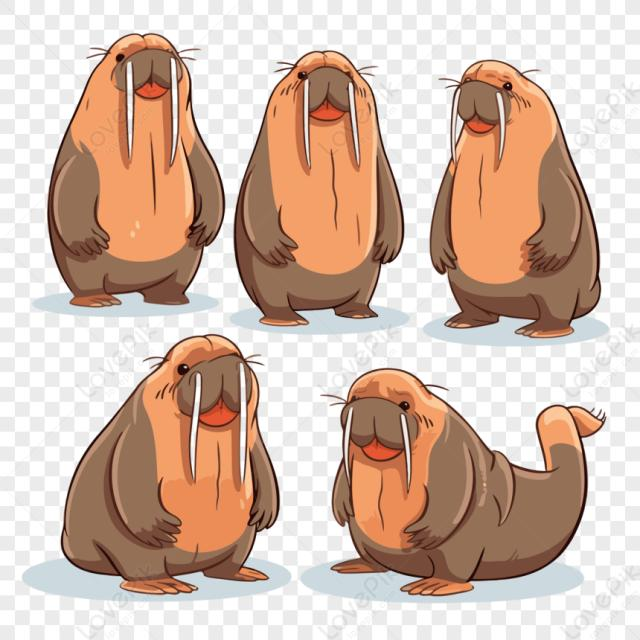walrus: (323, 334, 610, 616), (32, 326, 286, 618), (223, 23, 410, 334), (437, 35, 607, 344), (67, 23, 216, 302)
